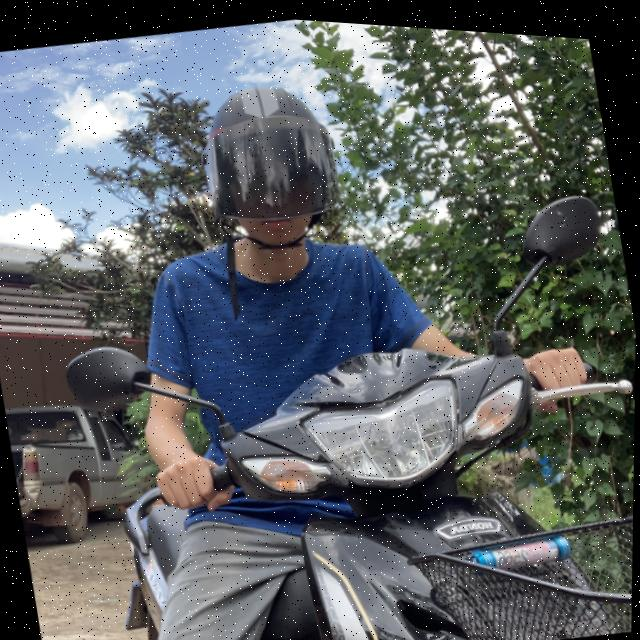helmet: (186, 63, 355, 264)
